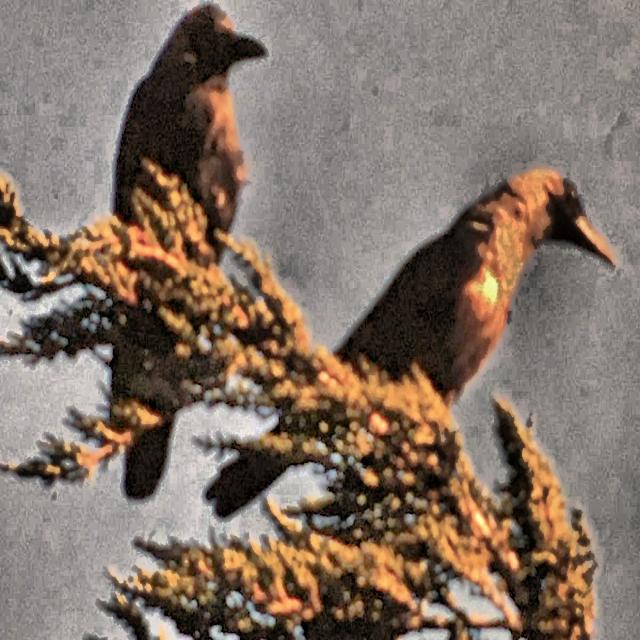crow: (325, 138, 622, 496), (111, 3, 274, 535)
